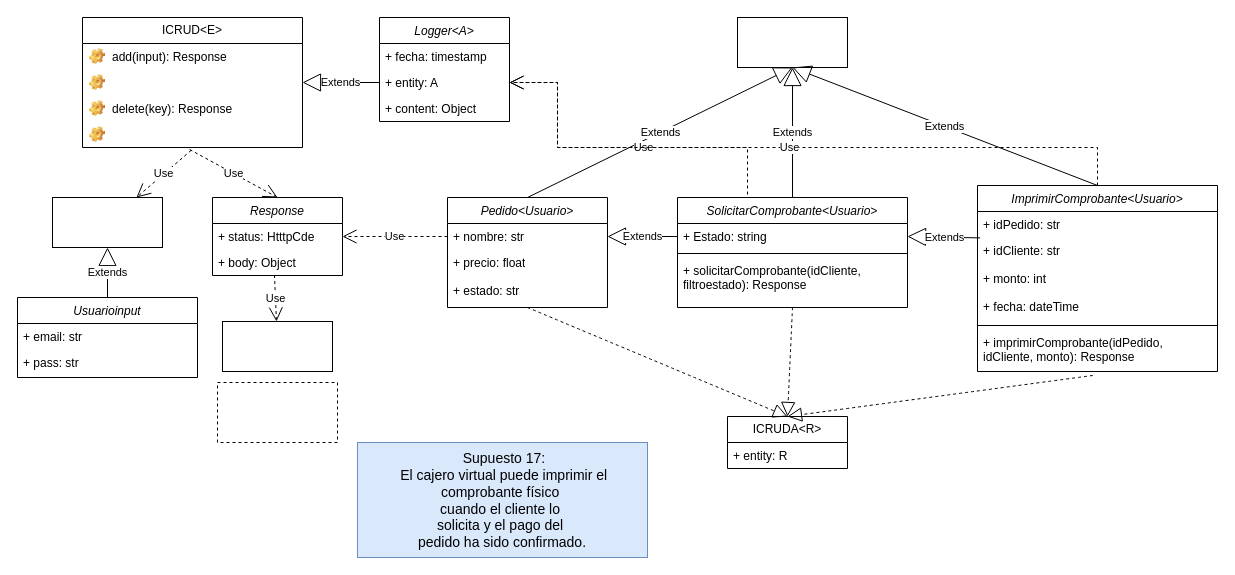
This 1235x575 diagram has some shape labels left out. Here are the shapes that lost their labels. From the top down, the centre of each, then its label:
At [792,42]: "«interface» ICRUD".
At [192,82]: "update(key, input): Response".
At [192,134]: "query(key): Response".
At [107,222]: "«interface» input".
At [277,346]: "HttpCode".
At [277,412]: "200: OK 400: Not Allowed 404: Not Found".
